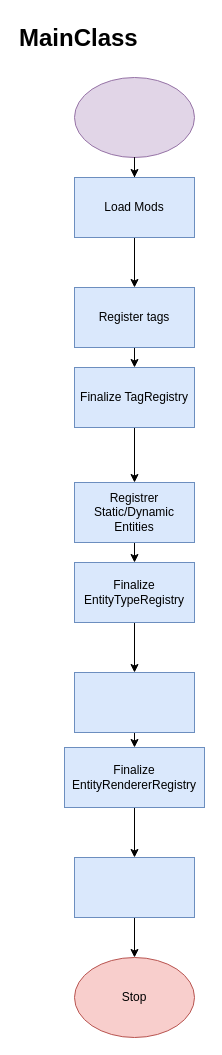
The diagram is 222 pixels wide and 1055 high, and some of its shapes have lost their labels. The shapes that lost their labels are listed below. From the top down, each one's centre as x and y in pixels, then its label:
At (x=134, y=117): "Initialize".
At (x=134, y=702): "Register Entity renderers".
At (x=134, y=887): "EntityFieldHandler CreateAccessors".
